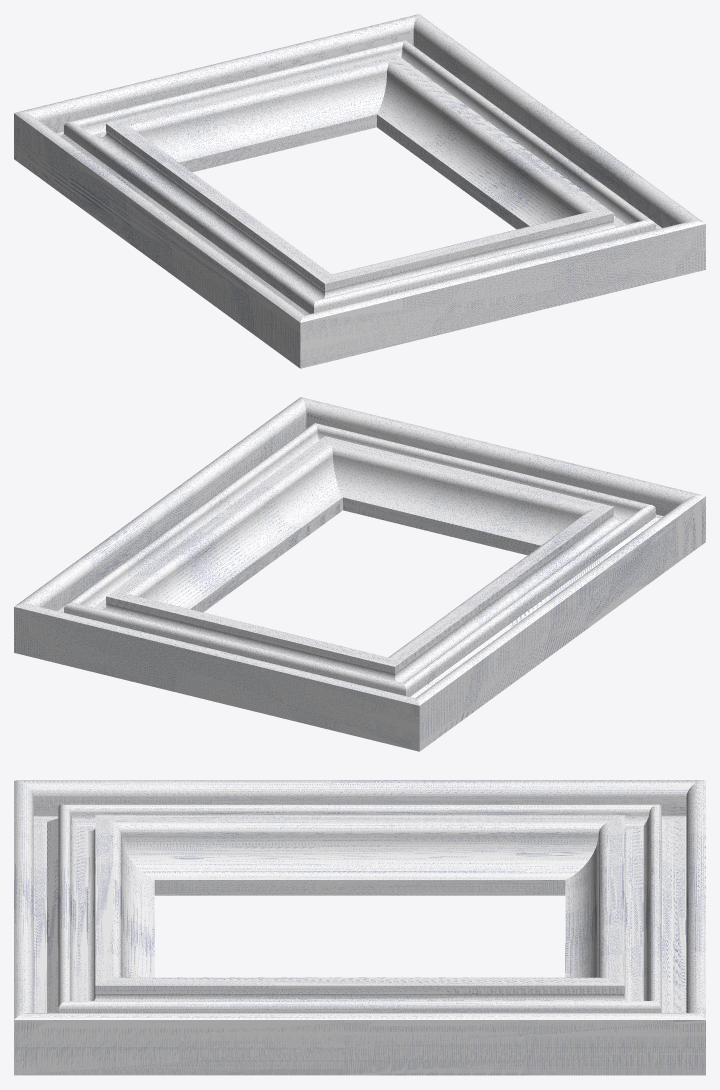
3 views of the same model, one above another, from view 1: azimuth 30°, elevation 25°; view 2: azimuth 150°, elevation 25°; view 3: azimuth 270°, elevation 25° (orthographic). The views are drawn at different scales.
Parts seen in each view (by area): view 1: SketchUp (×4); view 2: SketchUp (×4); view 3: SketchUp (×4).
Part boxes in pixels (<box>): SketchUp (×4): <box>14,14,705,368</box>; SketchUp (×4): <box>14,397,705,751</box>; SketchUp (×4): <box>14,780,705,1075</box>.
Size of the model in its own units: 337 by 412 by 38.12.
